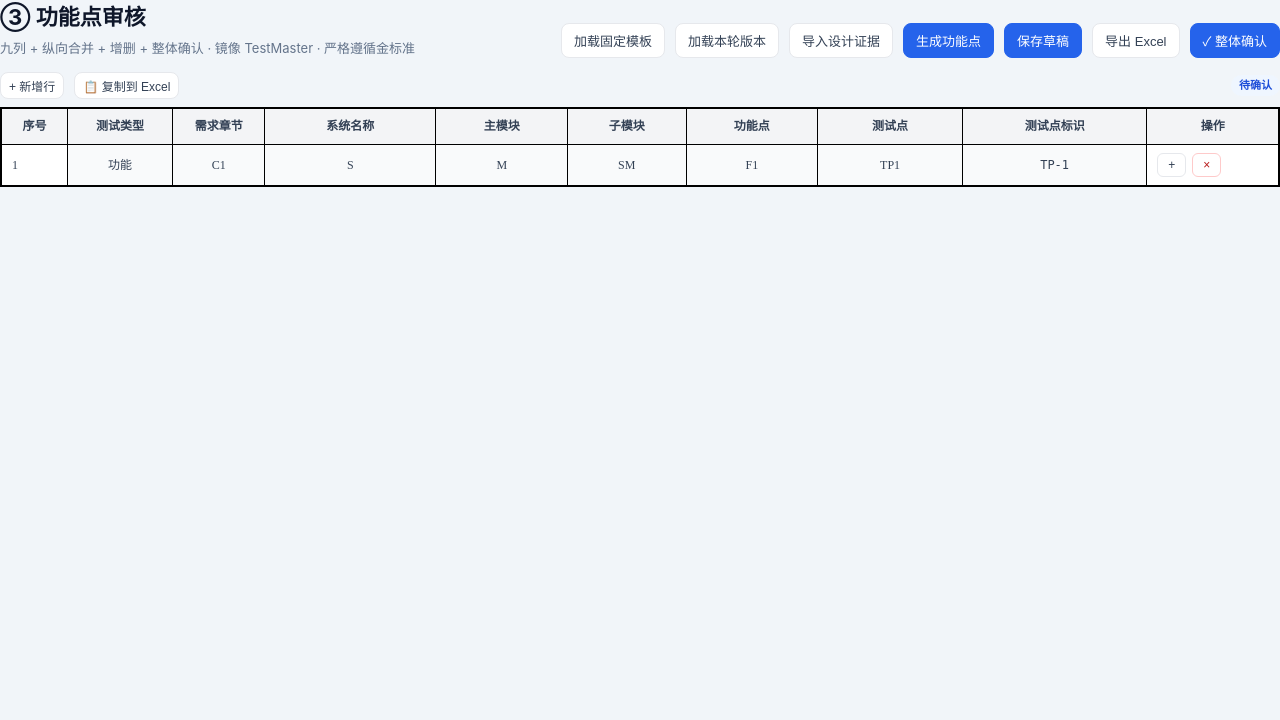
it: Feature 功能点审核 › 整体确认应弹出确认对话框
Click the button "✓ 整体确认".
click(1235, 41)  # box [1190,23,1279,58]
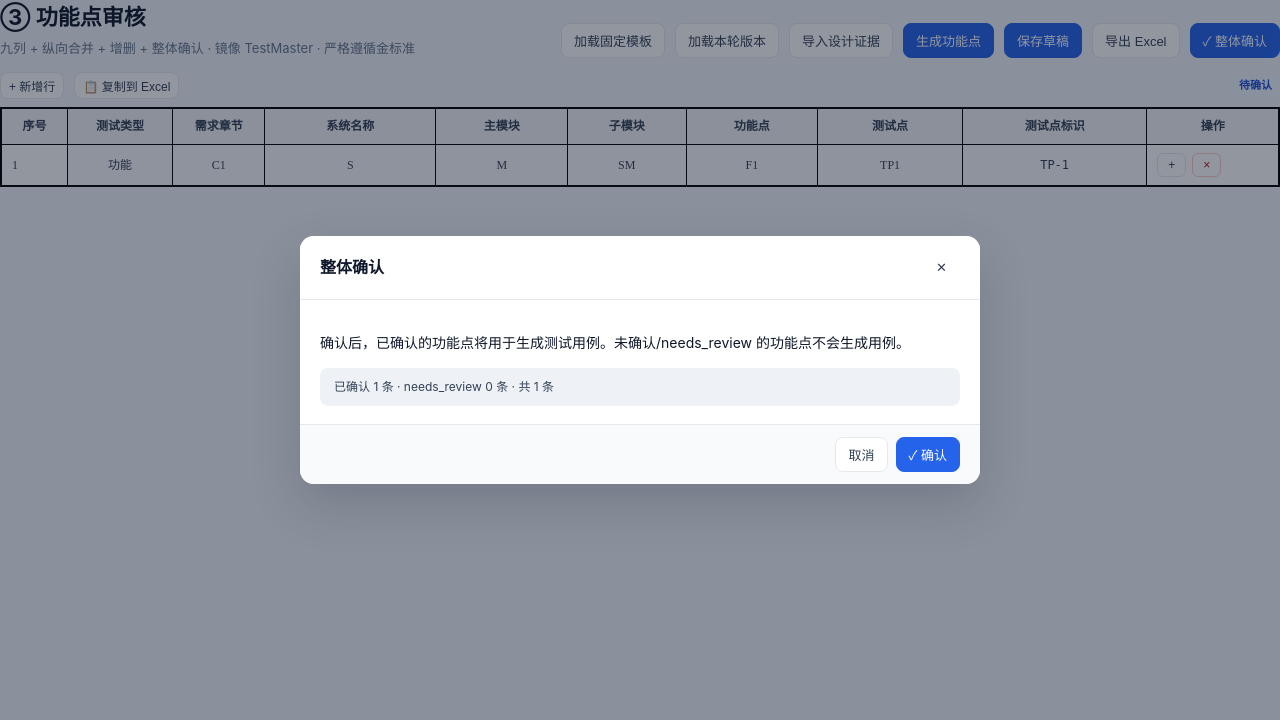
expect the text "确认后，已确认的功能点将用于生成测试用例。未确认/needs_review 的功能点不会生成用例。" is shown: met, box [320,332,960,354]
